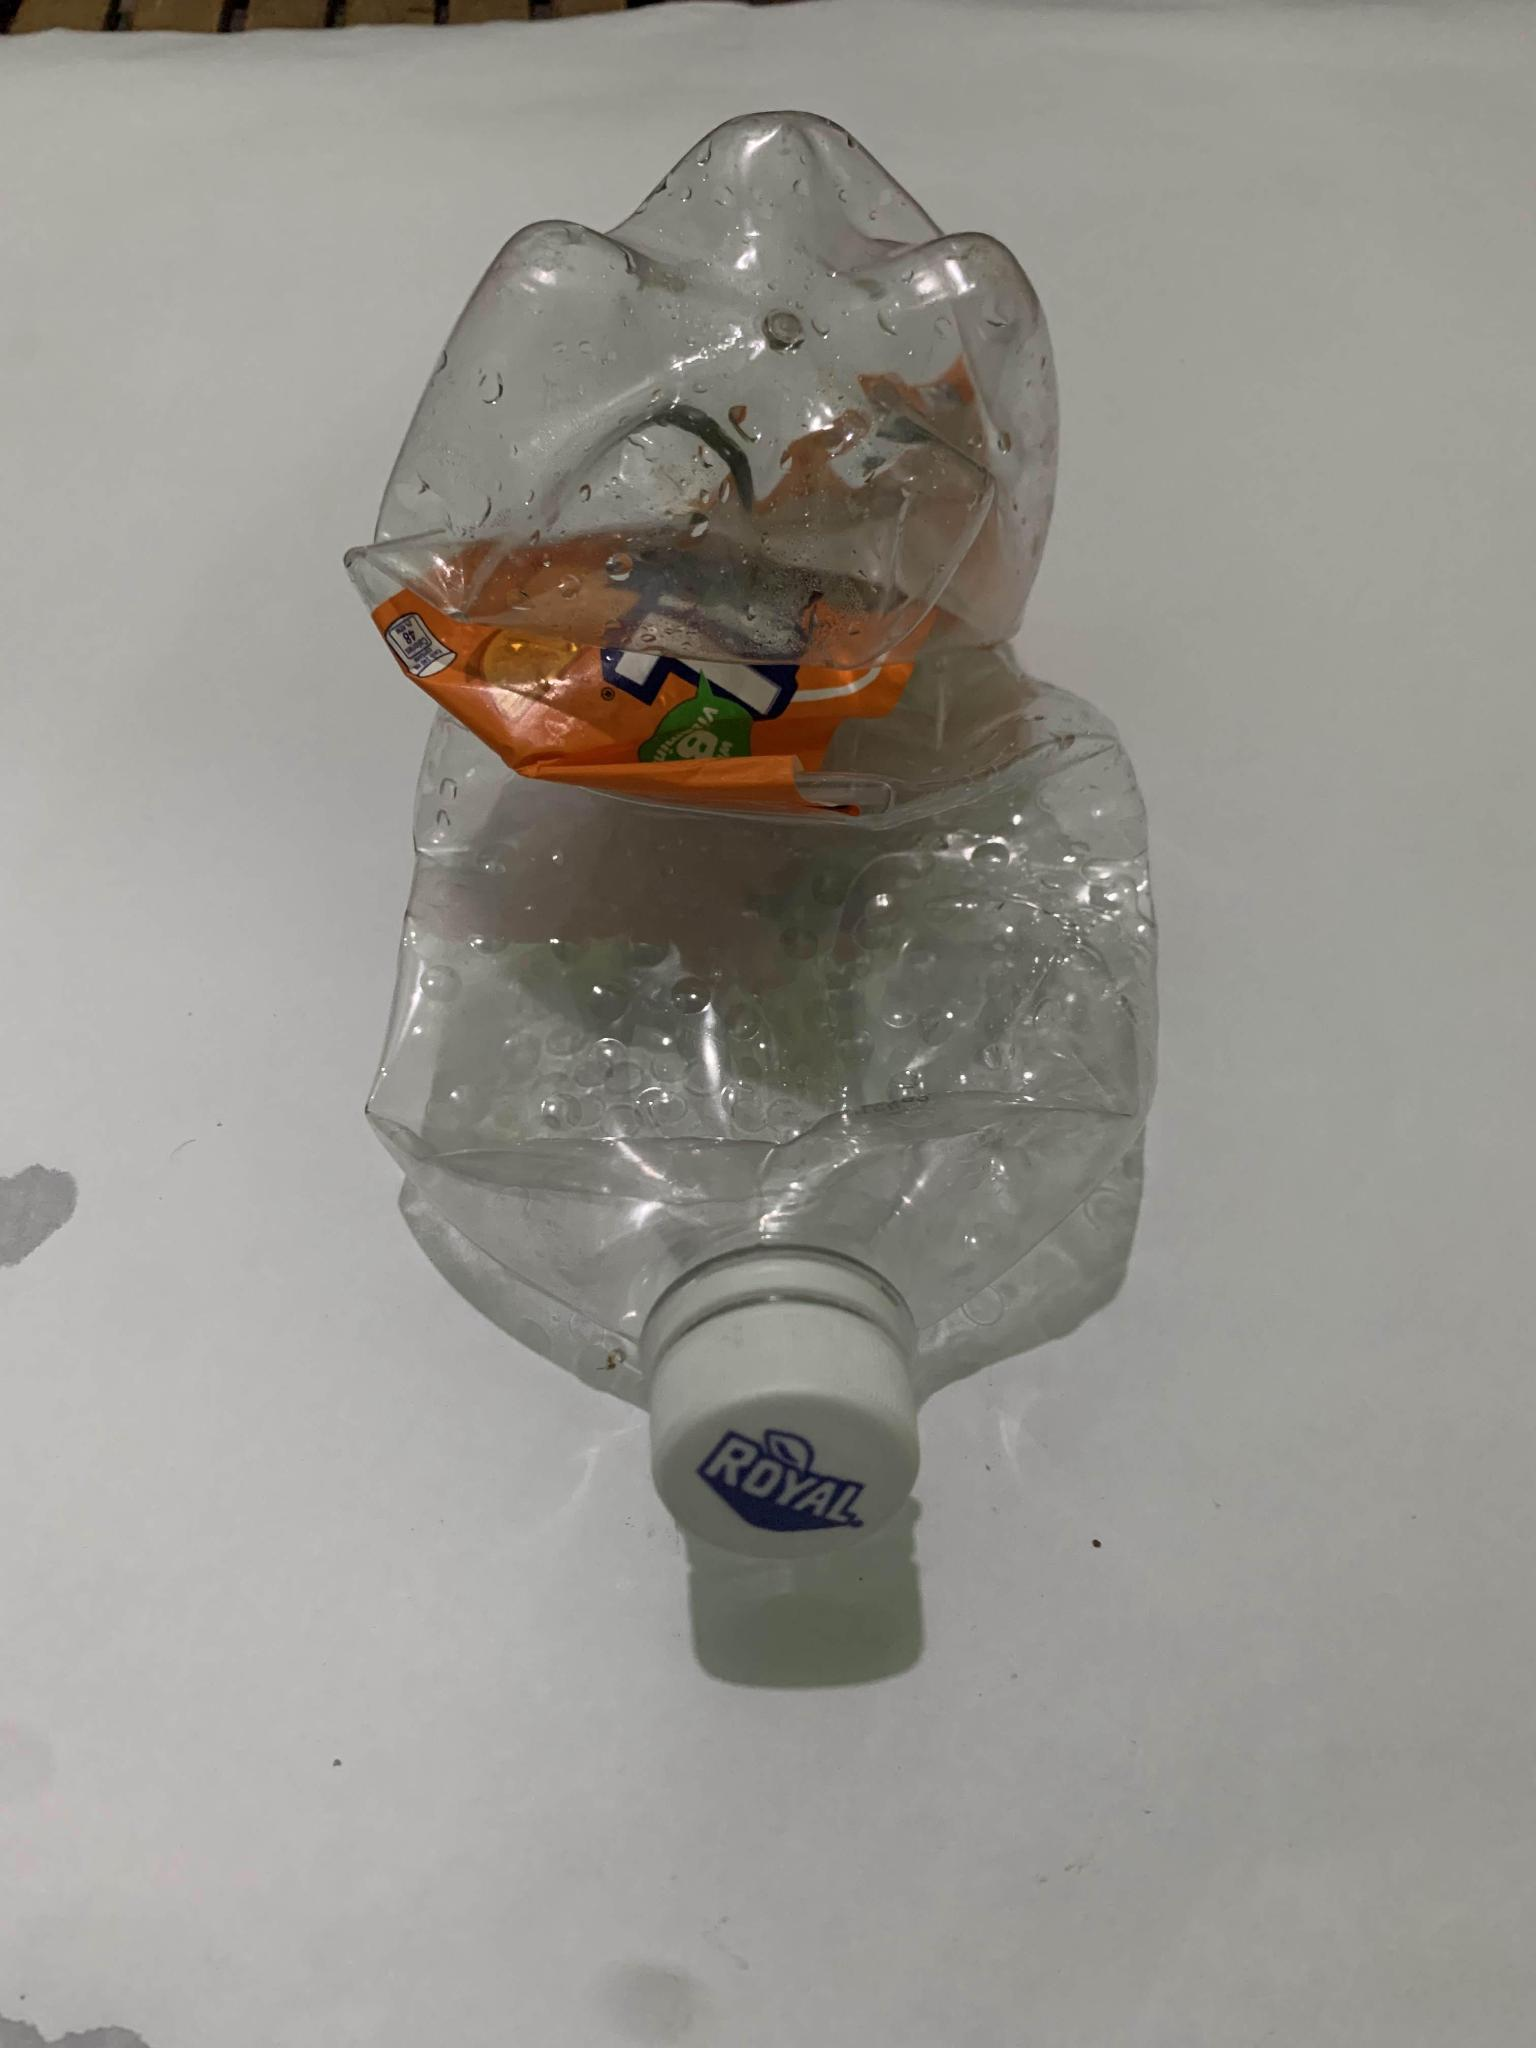bottle: (320, 86, 1188, 1552)
